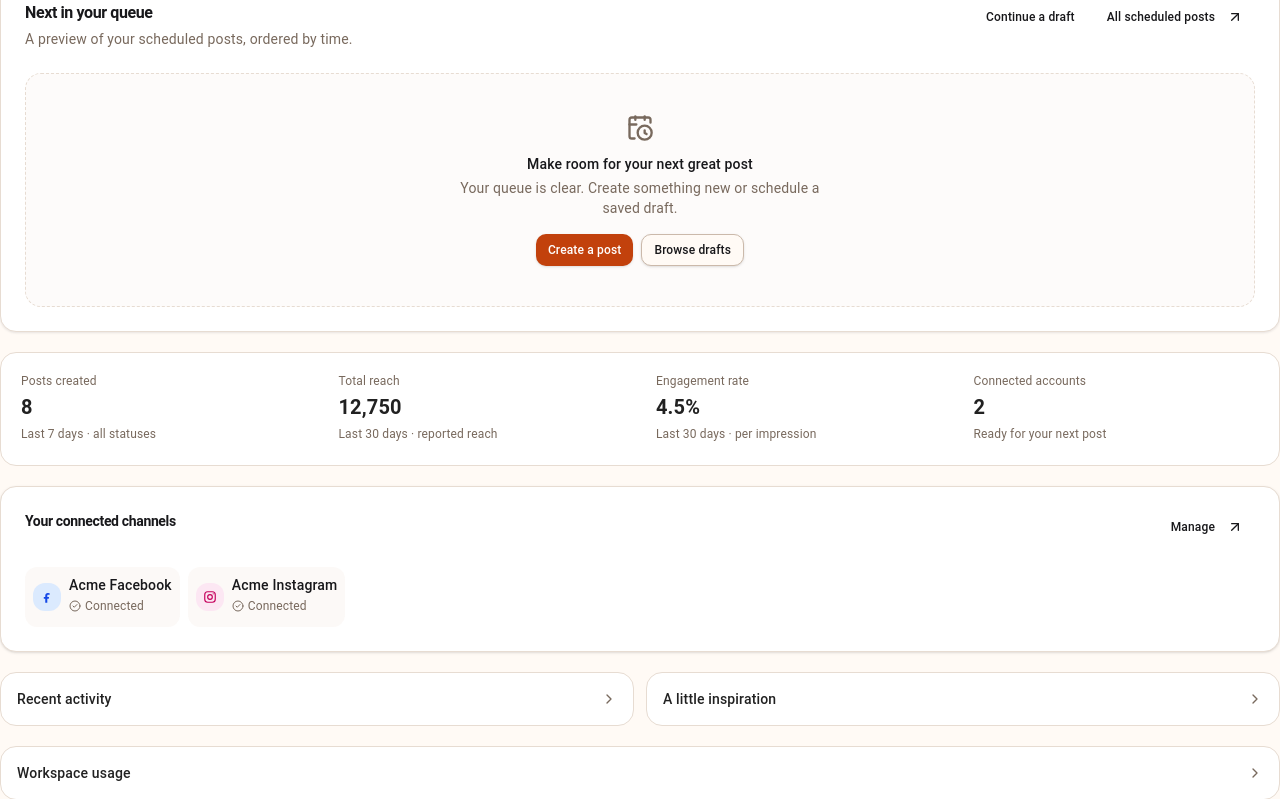
Test: SocialDashboard › preserves a selected content idea in the composer link
This screenshot has width=1280, height=799.
(page scrolled)
Click the heading "A little inspiration". click: coordinates (720, 698)
box: [663,690,1263,706]
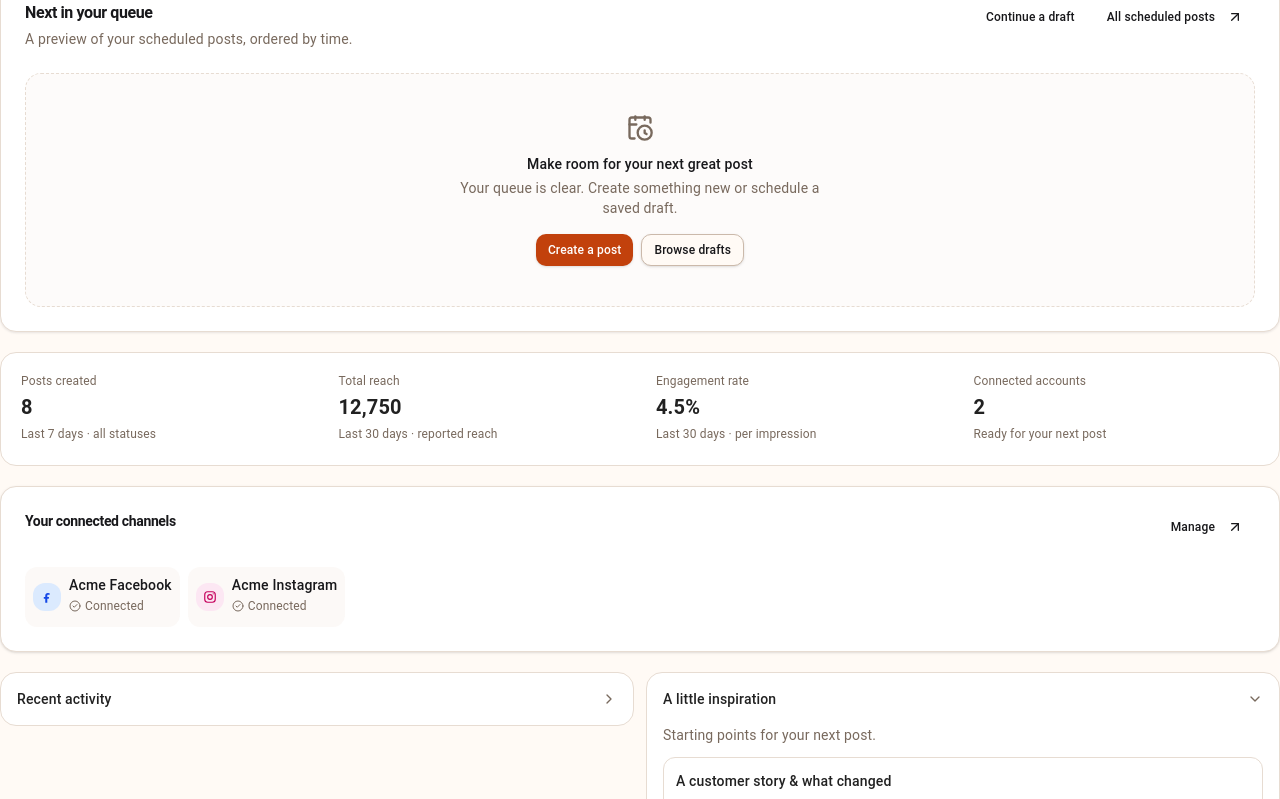
Expected: the heading "A customer story & what changed" is shown, [676,772,892,788]
